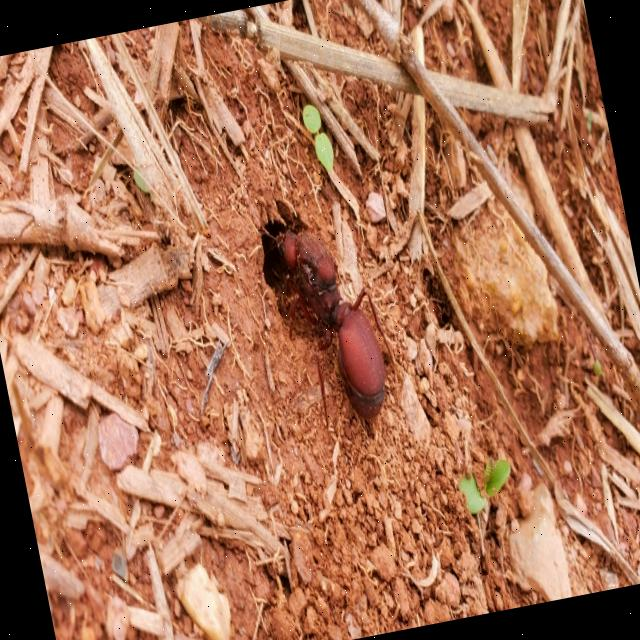Alive-Female-Dealate: (268, 214, 408, 432)
